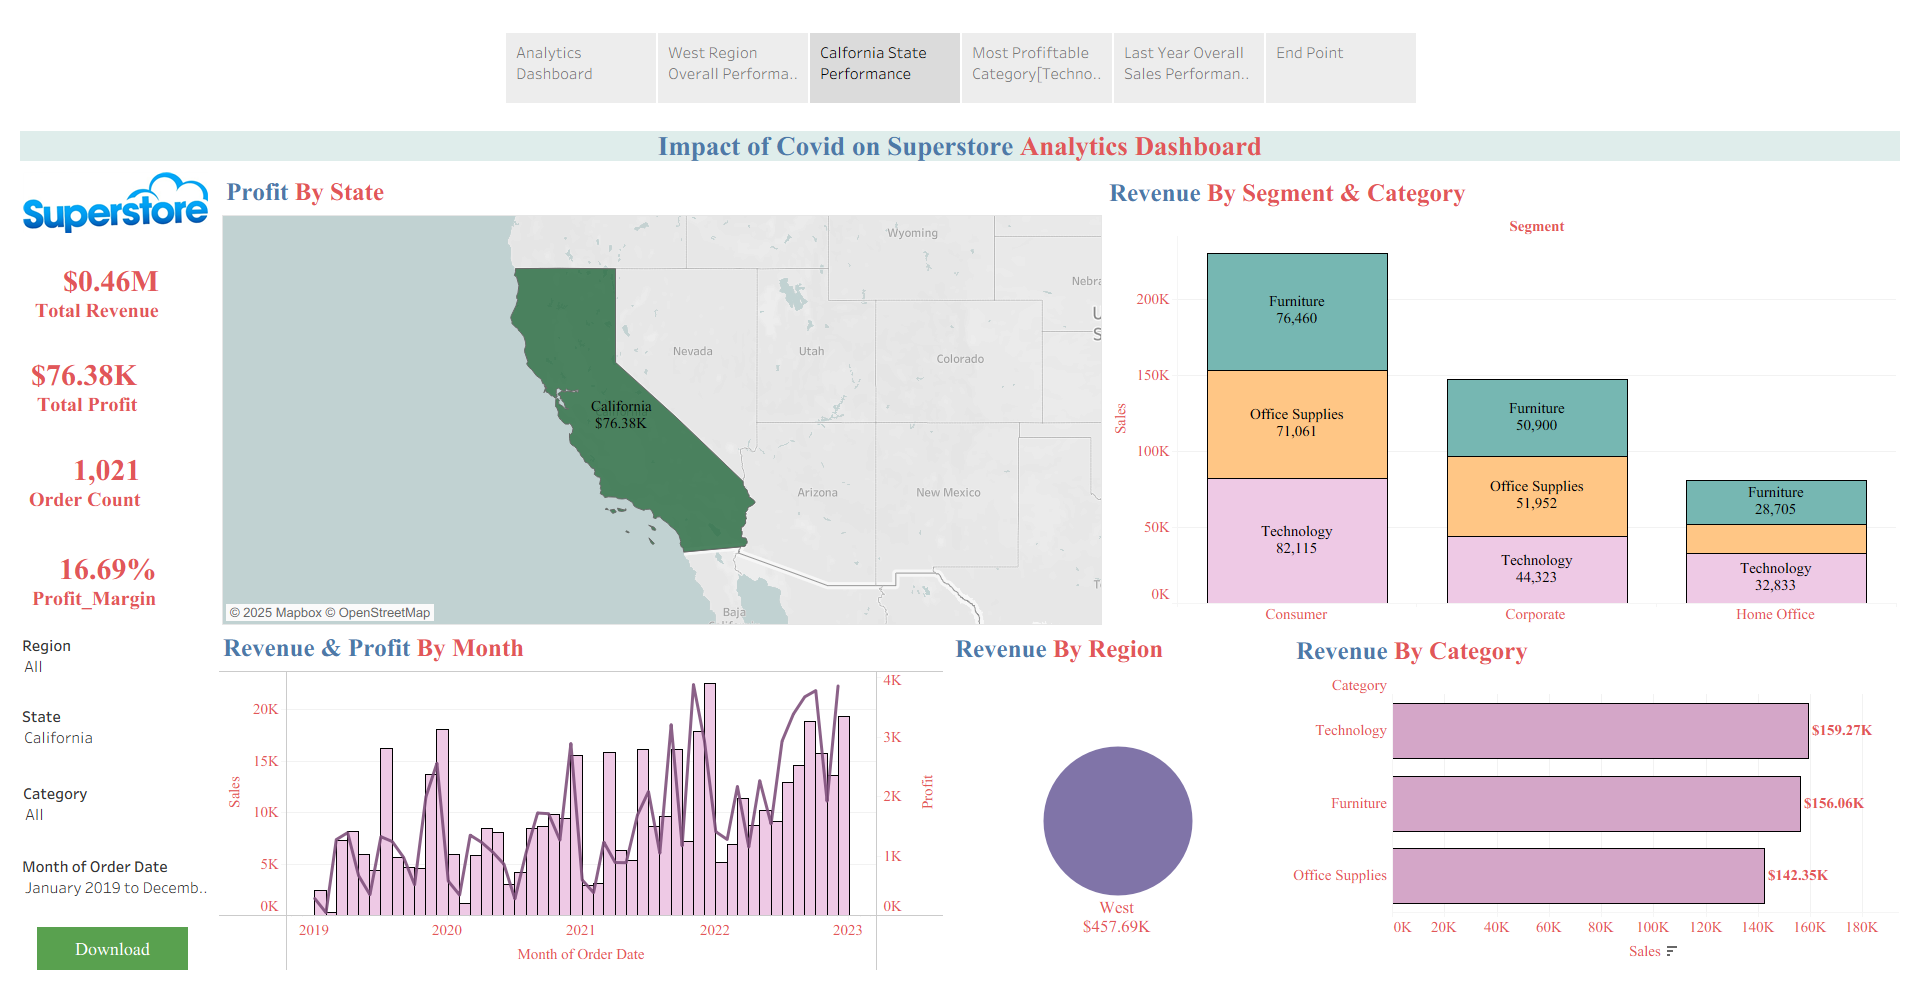

This screenshot's page, from the dashboard's own definition file:
{"tool":"tableau","page":{"name":"Dashboard","canvas":[1000,1000],"units":"permille","ordinal":0},"visuals":[{"type":"title","box":[4.8,10,990.3,47.4]},{"type":"image","param":"Image/superstore.jpg","box":[7.9,61.2,97.2,83.7]},{"type":"worksheet","title":"State_Profit","mark":"Automatic","box":[112.2,61.2,462.3,523.1]},{"type":"worksheet","title":"Segment_Revenue","mark":"Automatic","rows":["Sales"],"cols":["Segment"],"box":[576.3,62.4,415.2,520.6]},{"type":"worksheet","title":"RevenueCard","mark":"Automatic","box":[7.9,151.1,95.4,101.1]},{"type":"worksheet","title":"ProfitCard","mark":"Automatic","box":[7.2,259.7,95.4,102.4]},{"type":"worksheet","title":"OrderCountCard","mark":"Automatic","box":[7.2,369.5,94.8,96.1]},{"type":"worksheet","title":"ProfitMarginCard","mark":"Automatic","box":[6.6,484.4,94.2,99.9]},{"type":"worksheet","title":"Monthly_Revenue&Profit","mark":"Automatic","rows":["Sales","Profit"],"cols":["Order Date"],"box":[111,588,380.8,395.8]},{"type":"worksheet","title":"Region_Revenue","mark":"Pie","box":[495.5,589.3,175.6,393.3]},{"type":"worksheet","title":"Category_Revenue","mark":"Automatic","rows":["Category"],"cols":["Sales"],"box":[674.1,591.8,318,388.3]},{"type":"filter","title":"Region_Revenue","param":"[federated.1aaiccs02r5n1r194tcw40cy5zjr].[none:Region:nk]","box":[7.2,594.3,98.4,71.2]},{"type":"filter","title":"State_Profit","param":"[federated.1aaiccs02r5n1r194tcw40cy5zjr].[none:State:nk]","box":[7.2,676.6,98.4,73.7]},{"type":"filter","title":"Category_Revenue","param":"[federated.1aaiccs02r5n1r194tcw40cy5zjr].[none:Category:nk]","box":[7.9,765.3,97.8,72.4]},{"type":"filter","title":"Monthly_Revenue&Profit","param":"[federated.1aaiccs02r5n1r194tcw40cy5zjr].[tmn:Order Date:qk]","box":[7.2,850.2,99,71.2]},{"type":"dashboard-object","box":[15.1,932.6,79.7,49.9]}]}

Visuals, with their boxes on the dashboard's canvas, which has no fixed pixel size, in thousandths of its width and height (x1, y1, x2, y2). These are canvas units, not pixel positions in the 1920x993 screenshot, which may show the page scaled, cropped or inside an application window:
title: 5, 10, 995, 57
image: 8, 61, 105, 145
"State_Profit" worksheet: 112, 61, 574, 584
"Segment_Revenue" worksheet: 576, 62, 992, 583
"RevenueCard" worksheet: 8, 151, 103, 252
"ProfitCard" worksheet: 7, 260, 103, 362
"OrderCountCard" worksheet: 7, 370, 102, 466
"ProfitMarginCard" worksheet: 7, 484, 101, 584
"Monthly_Revenue&Profit" worksheet: 111, 588, 492, 984
"Region_Revenue" worksheet (Pie marks): 496, 589, 671, 983
"Category_Revenue" worksheet: 674, 592, 992, 980
"Region_Revenue" filter: 7, 594, 106, 666
"State_Profit" filter: 7, 677, 106, 750
"Category_Revenue" filter: 8, 765, 106, 838
"Monthly_Revenue&Profit" filter: 7, 850, 106, 921
dashboard-object: 15, 933, 95, 982
